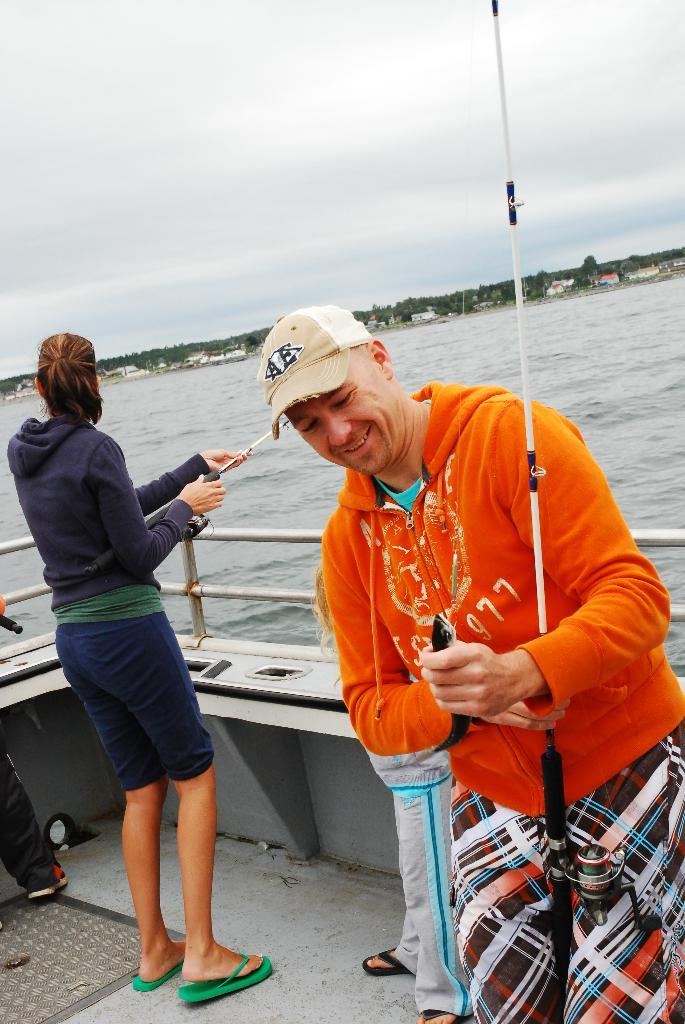Hat: (258, 302, 369, 434)
